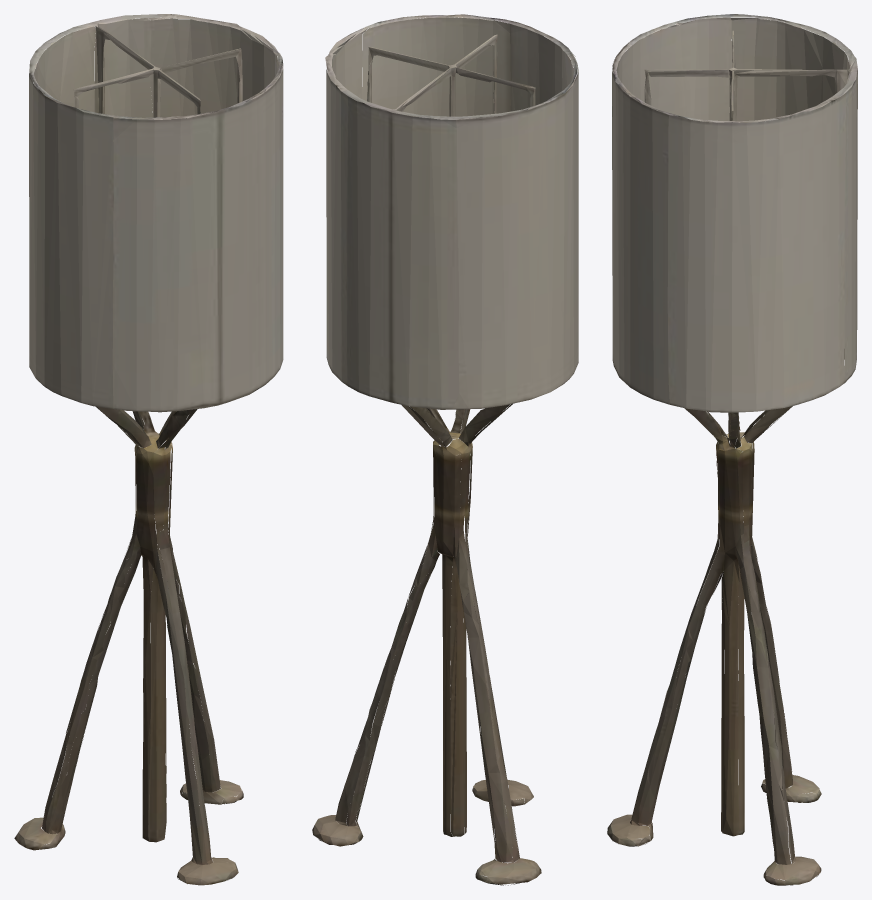
The model's file is floor-lamp.glb.
3 renders of one model, left to right at view 1: azimuth 30°, elevation 25°; view 2: azimuth 150°, elevation 25°; view 3: azimuth 270°, elevation 25°, orthographic.
Parts seen in each view (by area): view 1: geometry_0; view 2: geometry_0; view 3: geometry_0.
Boxes of the visible parts, left/top/right/bottom form: geometry_0: left=14, top=14, right=283, bottom=885; geometry_0: left=312, top=14, right=578, bottom=885; geometry_0: left=607, top=14, right=857, bottom=885.
Bounding box in the file's own units: 0.3052 × 1 × 0.2977.
Materials: 1 (1 with a texture image).
